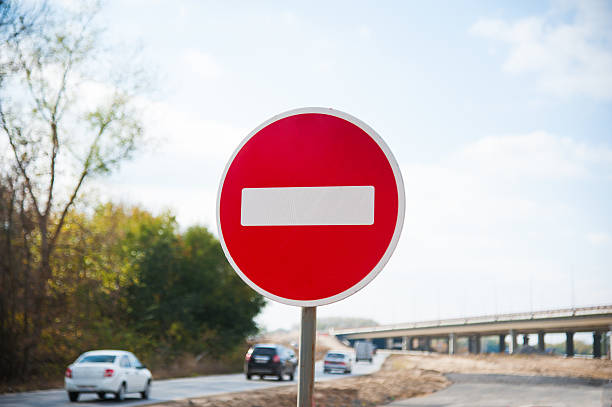Girilmez: (215, 107, 408, 304)
otomobil: (44, 346, 148, 406), (239, 329, 295, 388)
